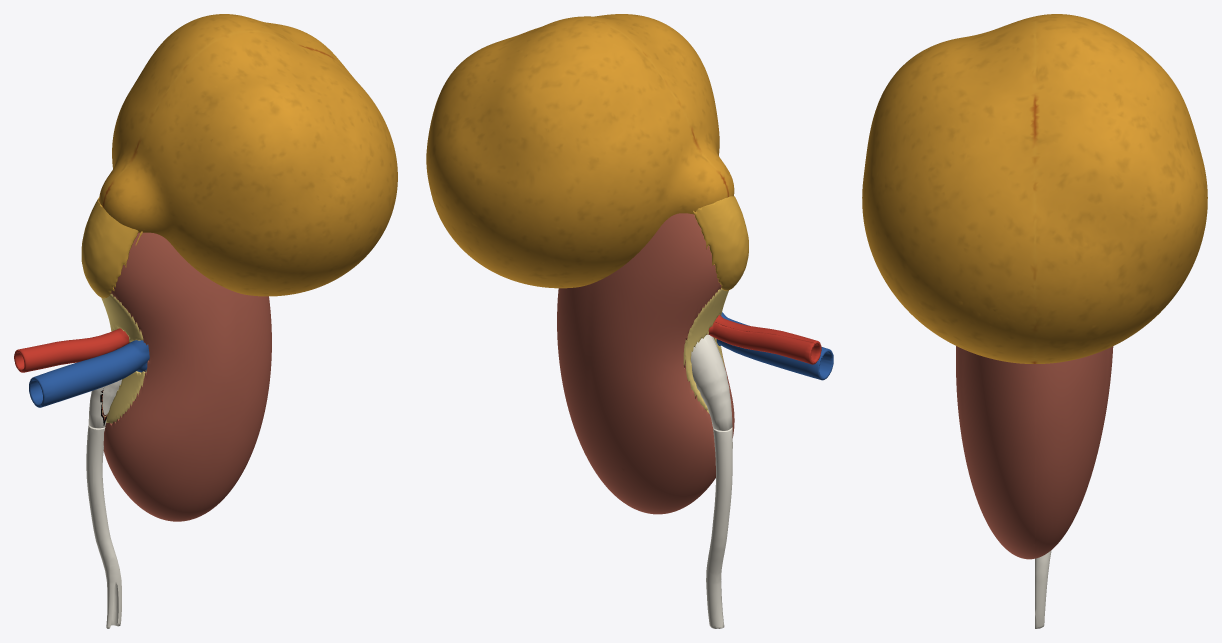
File: kidney_t4_coronal.glb
The picture shows the model from 3 angles, left to right: view 1: azimuth 30°, elevation 25°; view 2: azimuth 150°, elevation 25°; view 3: azimuth 270°, elevation 25°; orthographic projection. The views are drawn at different scales.
Parts seen in each view (by area): view 1: anterior_half, tumor, ureter, renal_pelvis, adrenal_gland; view 2: tumor, renal_cortex, anterior_half, ureter, adrenal_gland, renal_pelvis, renal_artery, renal_sinus; view 3: anterior_half, tumor, renal_cortex, ureter.
Boxes of the visible parts, bbox=[...] form: anterior_half: bbox=[18, 31, 397, 521]; tumor: bbox=[99, 14, 348, 206]; ureter: bbox=[86, 425, 121, 628]; renal_pelvis: bbox=[88, 387, 107, 428]; adrenal_gland: bbox=[81, 197, 102, 295]; tumor: bbox=[426, 17, 728, 288]; renal_cortex: bbox=[557, 213, 721, 514]; anterior_half: bbox=[515, 14, 833, 507]; ureter: bbox=[706, 427, 732, 628]; adrenal_gland: bbox=[692, 197, 745, 290]; renal_pelvis: bbox=[690, 334, 732, 430]; renal_artery: bbox=[707, 322, 814, 364]; renal_sinus: bbox=[683, 288, 725, 413]; anterior_half: bbox=[862, 16, 1034, 559]; tumor: bbox=[1035, 14, 1207, 363]; renal_cortex: bbox=[1035, 346, 1113, 558]; ureter: bbox=[1035, 550, 1051, 628].
Bounding box in the file's own units: 11.41 × 17.2 × 8.
1 material, 1 textured.
